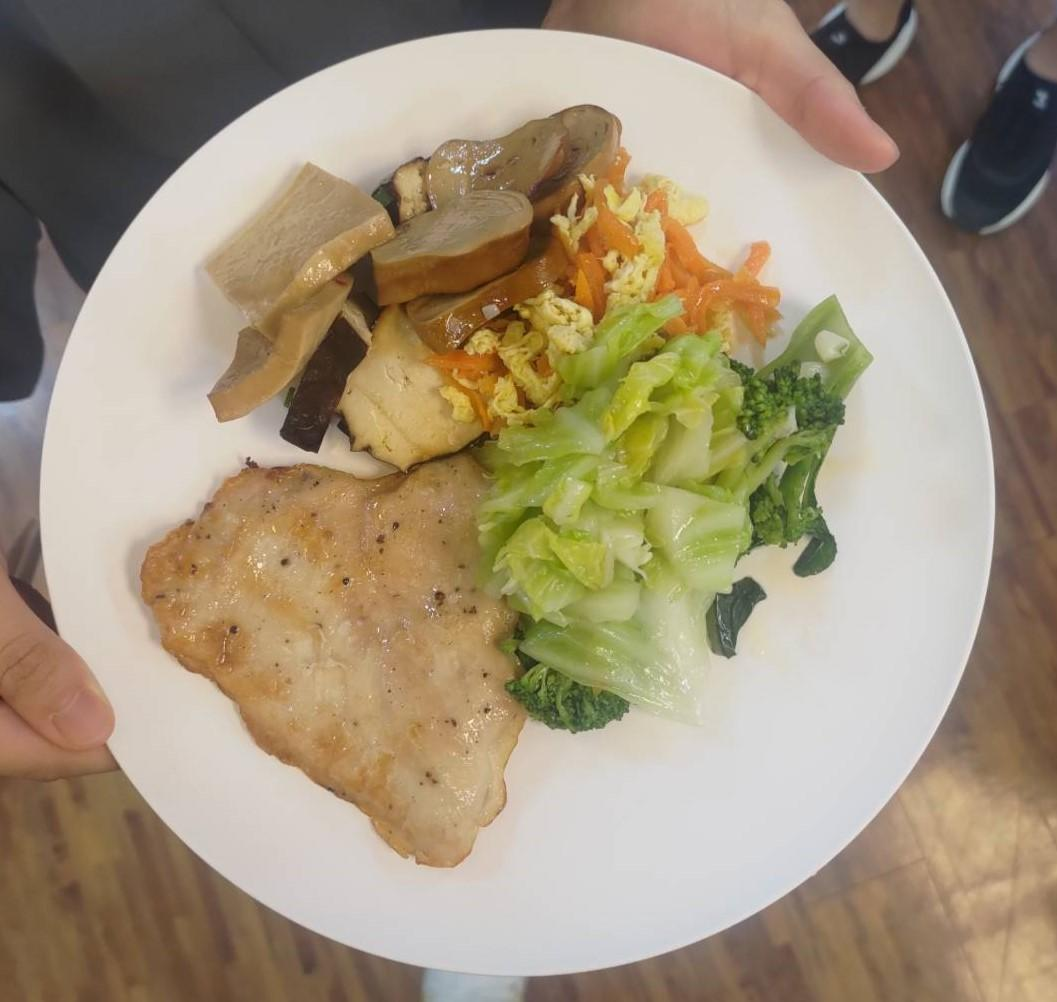big fried chicken leg: (38, 26, 1011, 986)
braised fish fillet: (203, 93, 618, 459), (491, 303, 746, 696), (461, 168, 778, 423), (737, 291, 865, 578)
braised pork: (125, 438, 535, 874)
